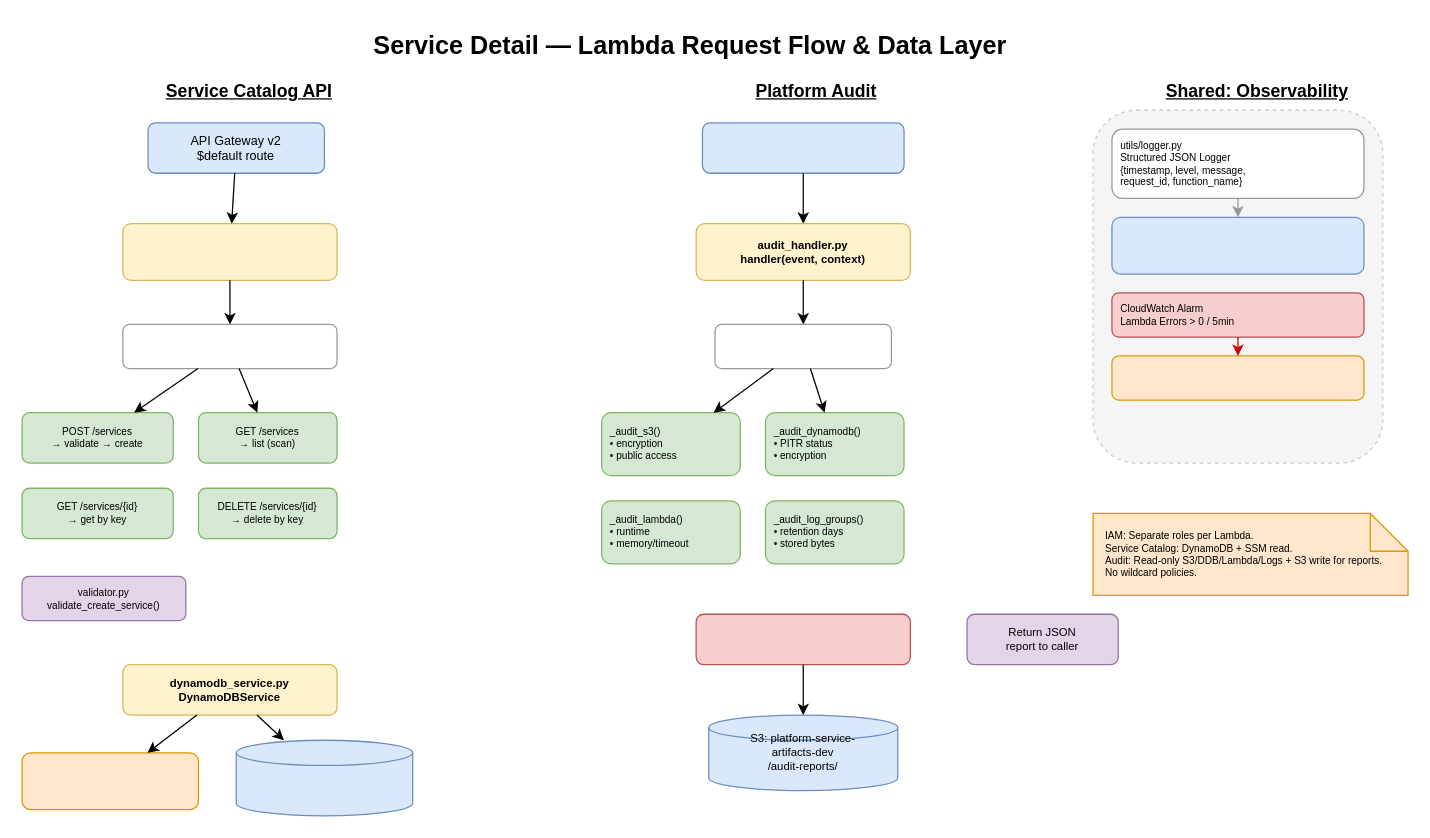
Image size: 1430x838. Some labels were removed from this diagram. The shapes that lost their labels are listed below. From the top down, each one's box as (x1, y1, x2, y2) in pixels, then its label:
(701, 122, 904, 173): API Gateway v2 GET /platform/audit
(122, 222, 337, 280): service_handler.py handler(event, context)
(1111, 216, 1364, 274): CloudWatch Logs /aws/lambda/platform-service-dev 14-day retention
(122, 323, 337, 369): Parse rawPath + requestContext.http.method
(714, 323, 891, 369): _build_audit_report()
(1111, 355, 1364, 400): SNS → Email Subscription (configurable alert_emails list)
(695, 613, 910, 665): _write_to_s3() audit-reports/*.json
(21, 752, 198, 810): SSM Parameter Store /platform-service/dev/ dynamodb-table-name
(235, 739, 413, 816): DynamoDB platform-services-dev (hash_key: service_id)
